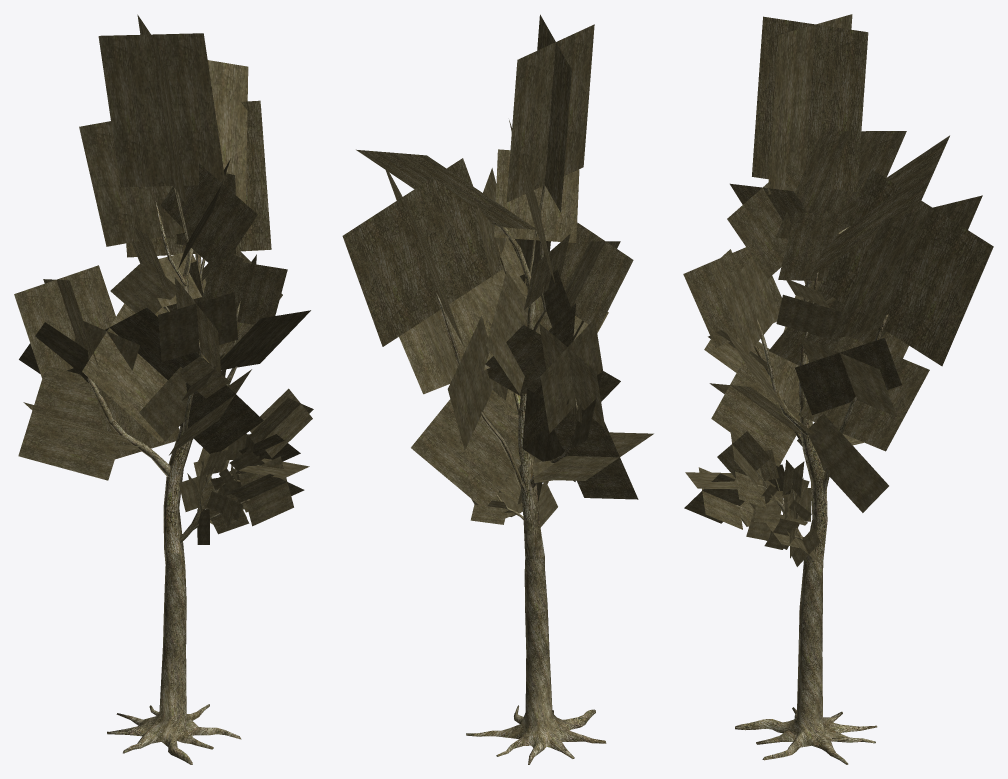
File: Model_Tree_09.fbx
3 views of the same model, side by side, from view 1: azimuth 30°, elevation 25°; view 2: azimuth 150°, elevation 25°; view 3: azimuth 270°, elevation 25° (orthographic).
Visible parts, largest first — view 1: Tree_08; view 2: Tree_08; view 3: Tree_08.
Boxes of the visible parts, bbox=[...] form: Tree_08: bbox=[14, 14, 313, 764]; Tree_08: bbox=[342, 14, 653, 764]; Tree_08: bbox=[683, 14, 993, 764].
Size of the model in its own units: 685 by 1804 by 715.
